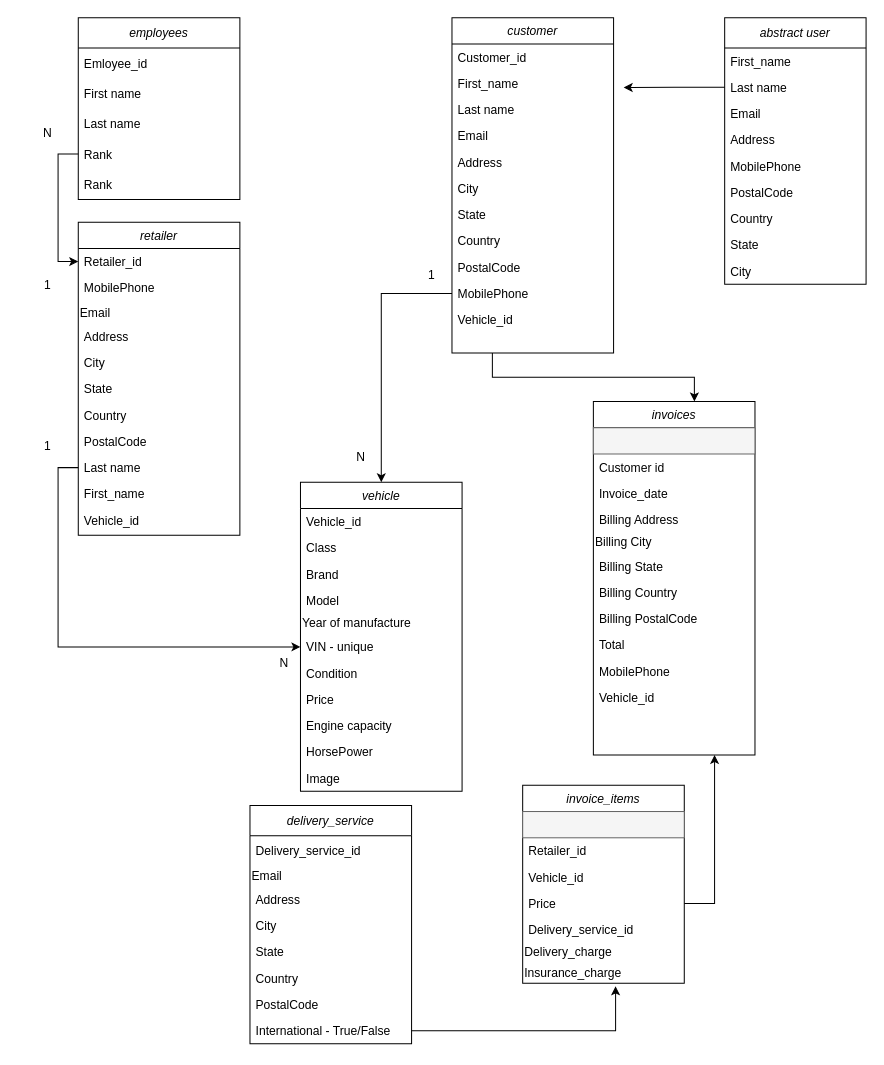
Some shapes in this 884 by 1065 pixel diagram are drawn without their labels. Each missing label, with the centre of its shape:
Invoice_id: point 673,440
Invoice_line_id: point 603,824
